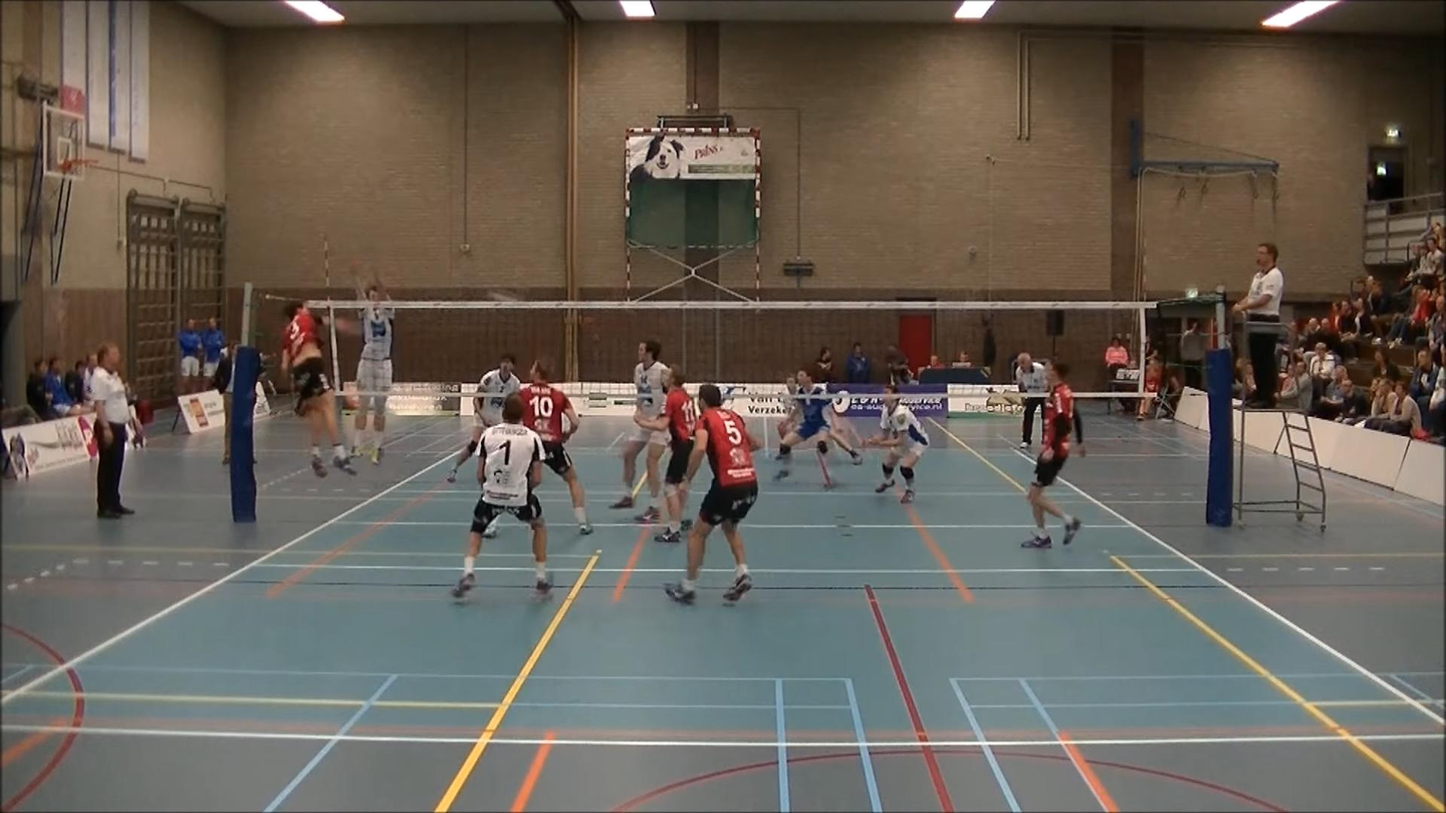attacco: (257, 286, 374, 482)
muro: (339, 261, 403, 466)
